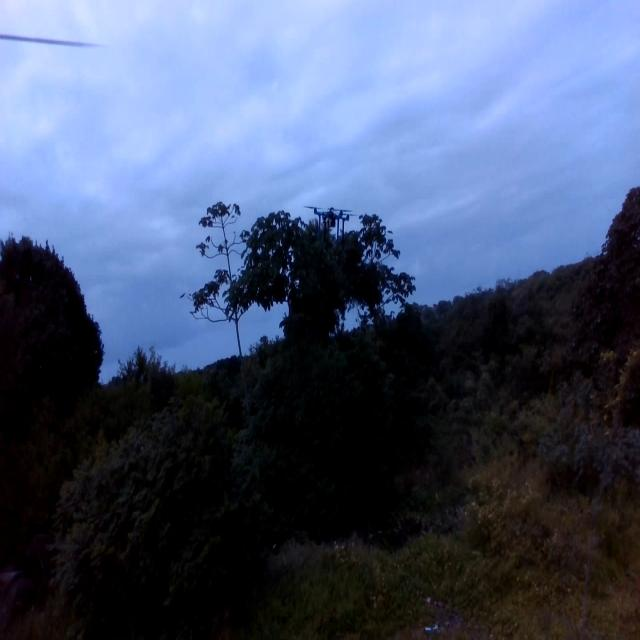-uav-: (312, 195, 350, 248)
